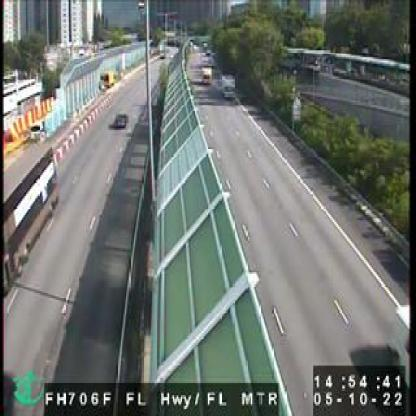Bus: (4, 144, 49, 298)
Car: (111, 111, 126, 128)
Truck: (220, 73, 234, 99), (200, 66, 212, 83)
